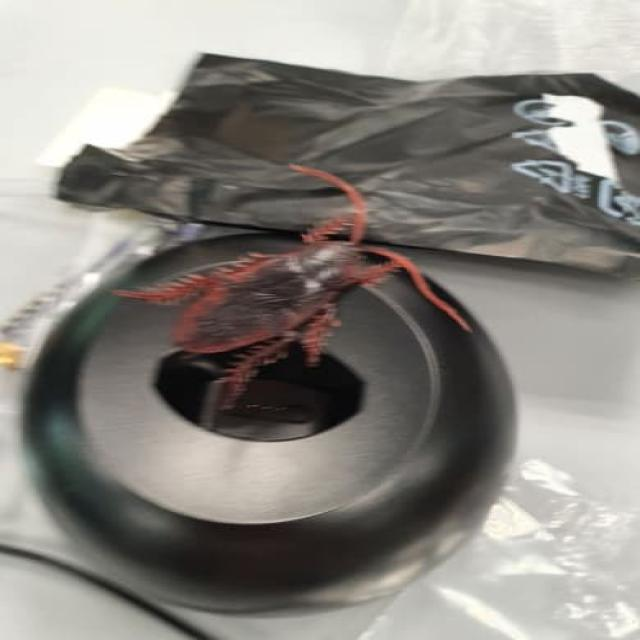Cockroach: (123, 161, 478, 421)
